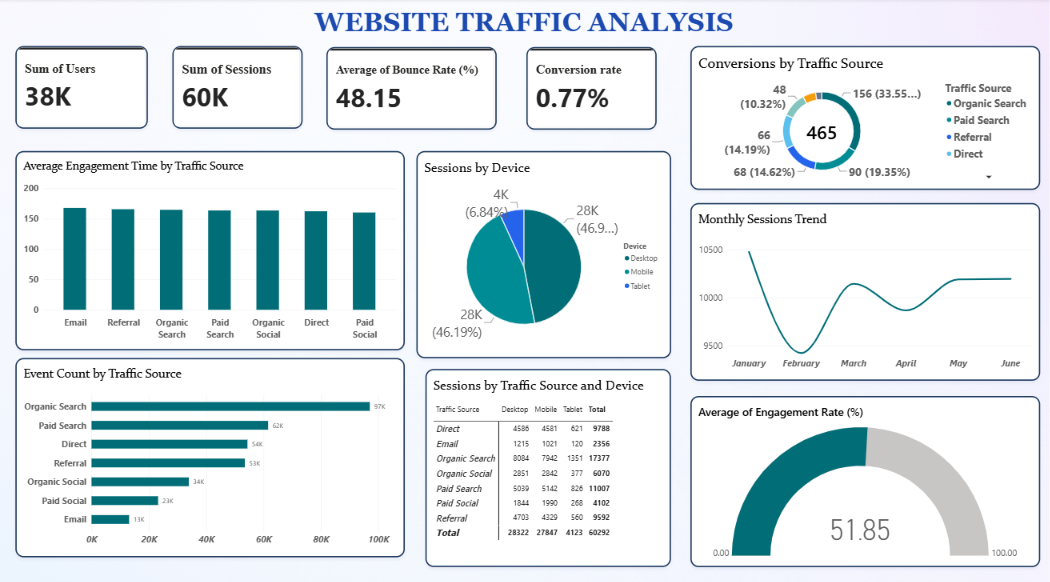

The dashboard page shown, as its layout file describes it:
{"tool":"powerbi","page":{"name":"Page 1","canvas":[1920,1080],"ordinal":0},"visuals":[{"type":"textbox","box":[10.3,0,1910.1,65.9],"z":0},{"type":"cardVisual","fields":{"Data":["Sum(website_traffic_analysis.Users)"]},"box":[30.9,84.4,240.8,150.3],"z":1000},{"type":"cardVisual","fields":{"Data":["Sum(website_traffic_analysis.Sessions)"]},"box":[317,84.4,236.7,150.3],"z":2000},{"type":"cardVisual","fields":{"Data":["Avg(website_traffic_analysis.Bounce Rate (%))"]},"box":[596.2,84.6,309.6,150],"z":3000},{"type":"cardVisual","fields":{"Data":["website_traffic_analysis.Conversion rate"]},"box":[959.6,84.6,237,150],"z":4000},{"type":"donutChart","title":"Conversions by Traffic Source","fields":{"Category":["website_traffic_analysis.Traffic Source"],"Y":["Sum(website_traffic_analysis.Conversions)"]},"box":[1257.6,84.4,636,261.4],"z":5000},{"type":"lineChart","title":"Monthly Sessions Trend","fields":{"Category":["website_traffic_analysis.Date.Variation.Date Hierarchy.Month"],"Y":["Sum(website_traffic_analysis.Sessions)"]},"box":[1257.6,368.4,636,323.2],"z":6000},{"type":"clusteredColumnChart","title":"Average Engagement Time by Traffic Source","fields":{"Category":["website_traffic_analysis.Traffic Source"],"Y":["Avg(website_traffic_analysis.Session Duration (Seconds))"]},"box":[30.9,273.8,708.1,362.3],"z":7000},{"type":"clusteredBarChart","title":"Event Count by Traffic Source","fields":{"Category":["website_traffic_analysis.Traffic Source"],"Y":["Sum(website_traffic_analysis.Event Count)"]},"box":[31,650,708,362],"z":8000},{"type":"pieChart","title":"Sessions by Device","fields":{"Category":["website_traffic_analysis.Device"],"Y":["Sum(website_traffic_analysis.Sessions)"]},"box":[759.5,273.8,463.1,376.7],"z":9000},{"type":"pivotTable","title":"Sessions by Traffic Source and Device","fields":{"Columns":["website_traffic_analysis.Device"],"Rows":["website_traffic_analysis.Traffic Source"],"Values":["Sum(website_traffic_analysis.Sessions)"]},"box":[776,671,446.7,360.2],"z":10000},{"type":"gauge","fields":{"Y":["Avg(website_traffic_analysis.Engagement Rate (%))"]},"box":[1257.6,720.4,636,310.8],"z":10001}]}

Visuals, with their boxes in screenshot pixels (x1, y1, x2, y2), scaled from the page's 1920x1080 canvas onto the 1050x582 screenshot:
textbox: x1=6 y1=0 x2=1049 y2=36
cardVisual - Sum(website_traffic_analysis.Users): x1=17 y1=45 x2=149 y2=126
cardVisual - Sum(website_traffic_analysis.Sessions): x1=173 y1=45 x2=303 y2=126
cardVisual - Avg(website_traffic_analysis.Bounce Rate (%)): x1=326 y1=46 x2=495 y2=126
cardVisual - website_traffic_analysis.Conversion rate: x1=525 y1=46 x2=654 y2=126
"Conversions by Traffic Source" donutChart: x1=688 y1=45 x2=1036 y2=186
"Monthly Sessions Trend" lineChart: x1=688 y1=199 x2=1036 y2=373
"Average Engagement Time by Traffic Source" clusteredColumnChart: x1=17 y1=148 x2=404 y2=343
"Event Count by Traffic Source" clusteredBarChart: x1=17 y1=350 x2=404 y2=545
"Sessions by Device" pieChart: x1=415 y1=148 x2=669 y2=351
"Sessions by Traffic Source and Device" pivotTable: x1=424 y1=362 x2=669 y2=556
gauge - Avg(website_traffic_analysis.Engagement Rate (%)): x1=688 y1=388 x2=1036 y2=556
